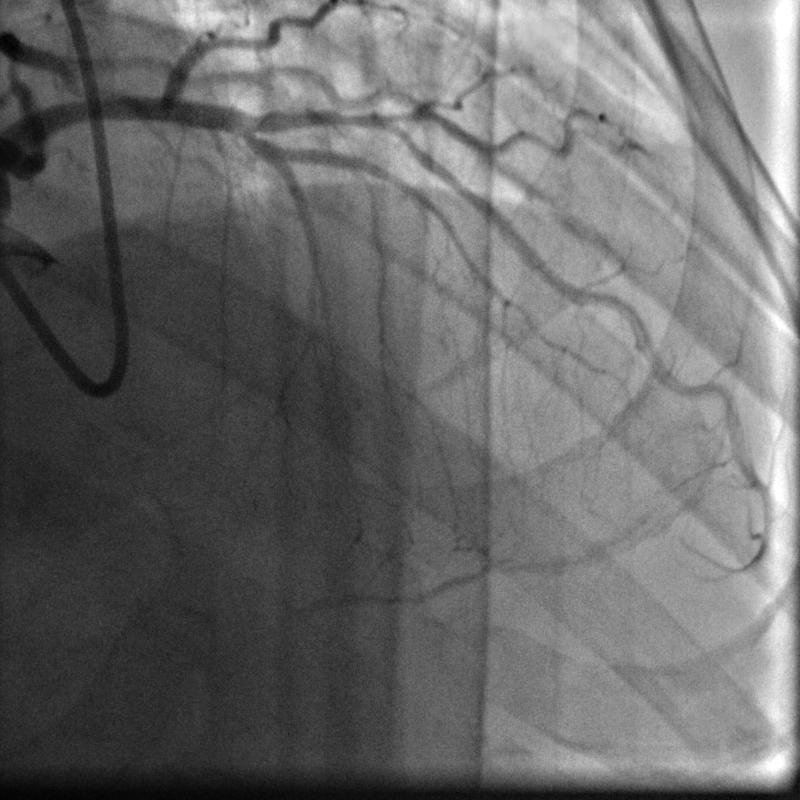Stenosis: (314, 106, 402, 133)
